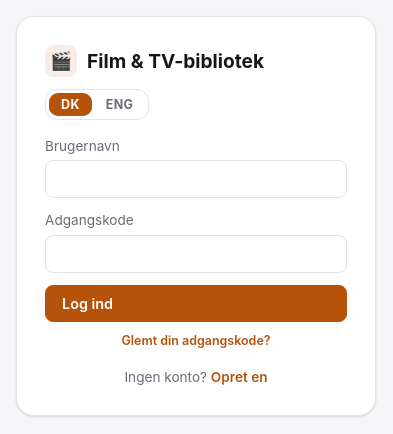
Test: Login — glemt adgangskode (feature #205) › skifter til 'glemt adgangskode'-formularen og skjuler login-felterne
Click the button "Glemt din adgangskode?": (196, 340) top-left (122, 333), bottom-right (271, 348)
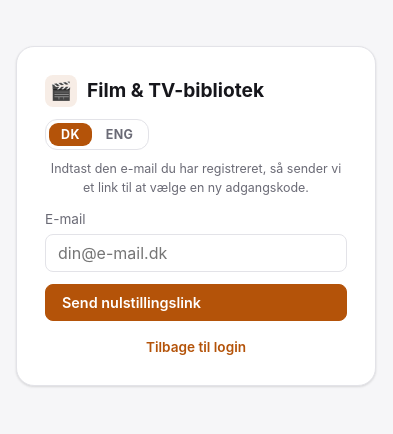
Check: the field labelled "Adgangskode" is not shown
Check: the label labelled "Brugernavn" is gone
Check: the field labelled "E-mail" is shown, box top-left (45, 234), bottom-right (347, 272)
